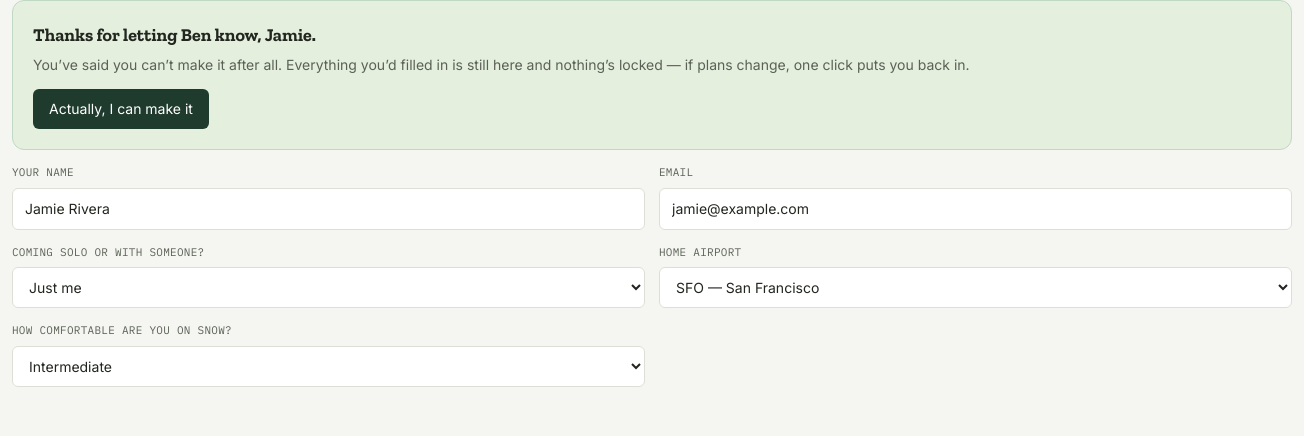
Scenario: DeclinedPanel — both rows, a respondent row already exists › surfaces a failed undo and leaves the button clickable
Click the button "Actually, I can make it": (121, 109) [33,89,209,129]
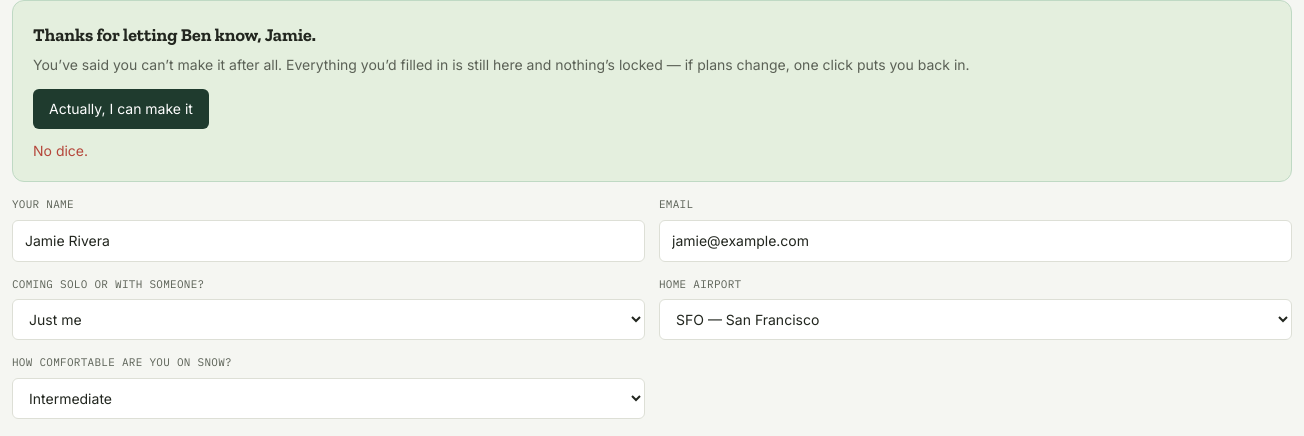
Expected: the heading "Thanks for letting Ben know, Jamie." is shown, [33,24,316,46]
Expected: the message reads "No dice.", [33,142,88,159]
